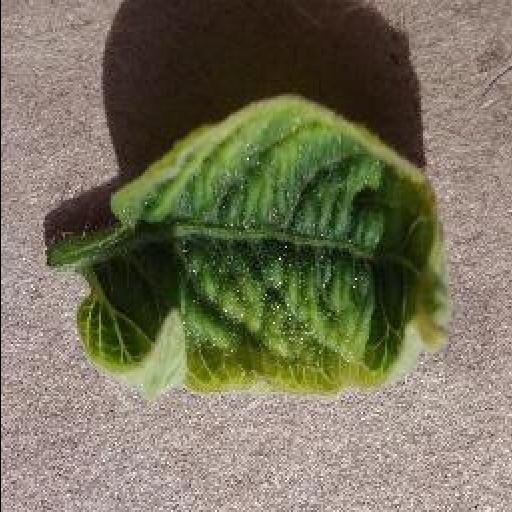disease_tomato: (78, 93, 452, 395)
